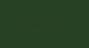five: (45, 19, 51, 27)
nine: (17, 20, 23, 28)
seven: (38, 20, 44, 28)
six: (31, 20, 37, 28)
three: (52, 19, 58, 27), (59, 19, 65, 27)
two: (66, 19, 72, 27)
zero: (24, 20, 30, 28)
